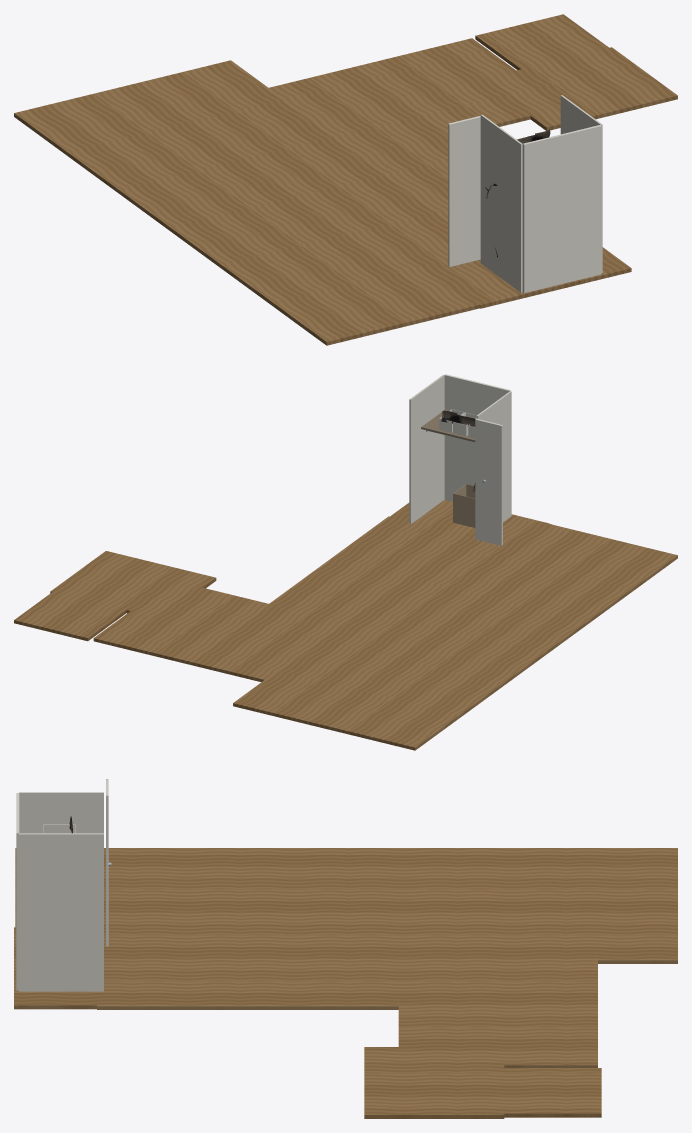
3 views of the same model, one above another, from view 1: azimuth 30°, elevation 25°; view 2: azimuth 150°, elevation 25°; view 3: azimuth 270°, elevation 25° (orthographic). The views are drawn at different scales.
Parts seen in each view (by area): view 1: architecture_floor_studio, architecture_floor_kitchen, architecture_floor_hallway, source_closet_observed_backwall, source_closet_side_support_-0.687, source_closet_visible_white_door_panel, architecture_floor_laundry, architecture_floor_storage, source_closet_side_support_0.211; view 2: architecture_floor_studio, architecture_floor_kitchen, architecture_floor_hallway, source_closet_side_support_0.211, source_closet_observed_backwall, architecture_floor_laundry, source_closet_visible_white_door_panel, architecture_floor_storage, source_closet_side_support_-0.687, source_closet_lower_open_box_side_y_1; view 3: architecture_floor_studio, architecture_floor_kitchen, architecture_floor_hallway, source_closet_side_support_0.211, architecture_floor_laundry, source_closet_side_support_-0.687, architecture_floor_storage, source_closet_observed_backwall.
Boxes of the visible parts, x1=… form: architecture_floor_studio: x1=109, y1=57, x2=483, y2=345; architecture_floor_kitchen: x1=14, y1=60, x2=291, y2=186; architecture_floor_hallway: x1=394, y1=38, x2=677, y2=130; source_closet_observed_backwall: x1=522, y1=125, x2=601, y2=293; source_closet_side_support_-0.687: x1=480, y1=114, x2=522, y2=292; source_closet_visible_white_door_panel: x1=448, y1=116, x2=480, y2=267; architecture_floor_laundry: x1=475, y1=14, x2=612, y2=71; architecture_floor_storage: x1=441, y1=247, x2=631, y2=308; source_closet_side_support_0.211: x1=560, y1=95, x2=602, y2=272; architecture_floor_studio: x1=159, y1=516, x2=677, y2=697; architecture_floor_kitchen: x1=233, y1=668, x2=495, y2=750; architecture_floor_hallway: x1=50, y1=551, x2=237, y2=657; source_closet_side_support_0.211: x1=409, y1=374, x2=444, y2=524; source_closet_observed_backwall: x1=444, y1=374, x2=510, y2=501; architecture_floor_laundry: x1=14, y1=590, x2=128, y2=641; source_closet_visible_white_door_panel: x1=475, y1=418, x2=502, y2=545; architecture_floor_storage: x1=390, y1=500, x2=549, y2=547; source_closet_side_support_-0.687: x1=476, y1=391, x2=511, y2=540; source_closet_lower_open_box_side_y_1: x1=453, y1=493, x2=475, y2=527; architecture_floor_studio: x1=15, y1=848, x2=597, y2=1025; architecture_floor_kitchen: x1=475, y1=848, x2=677, y2=963; architecture_floor_hallway: x1=364, y1=1006, x2=597, y2=1118; source_closet_side_support_0.211: x1=19, y1=833, x2=103, y2=991; architecture_floor_laundry: x1=497, y1=1068, x2=601, y2=1117; source_closet_side_support_-0.687: x1=19, y1=792, x2=103, y2=833; architecture_floor_storage: x1=14, y1=927, x2=96, y2=1009; source_closet_observed_backwall: x1=16, y1=793, x2=19, y2=990.
Size of the model in its own units: 5.8 by 1.64 by 6.1.
Materials: 6 (1 with a texture image).
